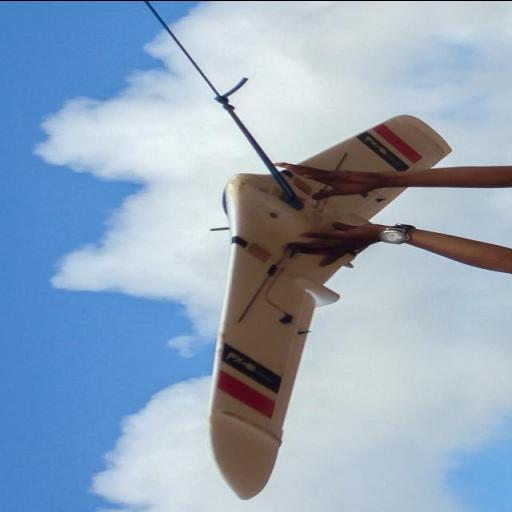uav: (198, 109, 454, 501)
